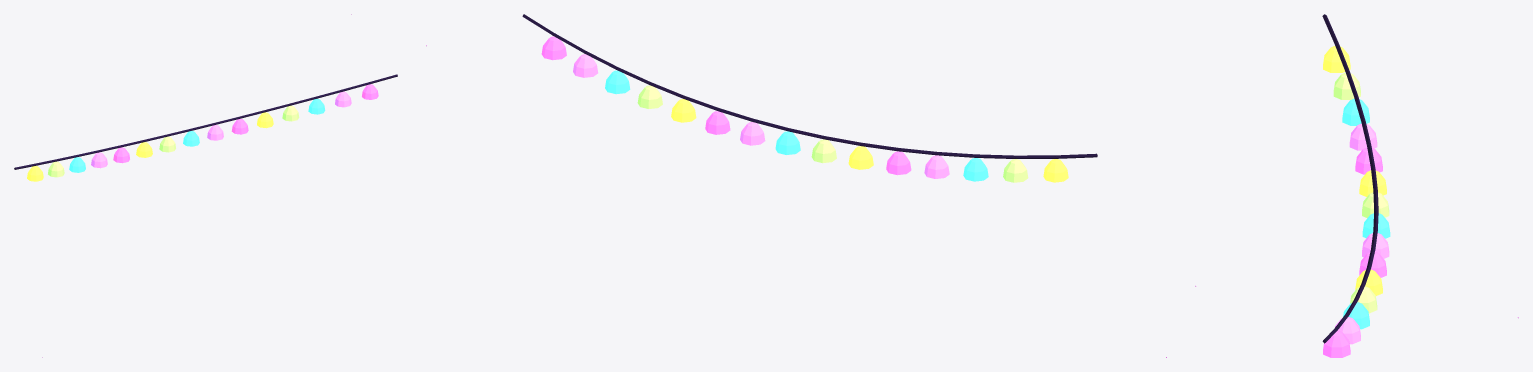
File: shelf_lights.fbx
3 views of the same model, side by side, from view 1: azimuth 30°, elevation 25°; view 2: azimuth 150°, elevation 25°; view 3: azimuth 270°, elevation 25° (orthographic). The views are drawn at different scales.
Visible parts, largest first — view 1: Bulbs, Wire; view 2: Bulbs, Wire; view 3: Bulbs, Wire.
Boxes of the visible parts, left/top/right/bottom form: Bulbs: left=27, top=84, right=378, bottom=181; Wire: left=14, top=74, right=397, bottom=169; Bulbs: left=541, top=36, right=1068, bottom=182; Wire: left=522, top=14, right=1097, bottom=158; Bulbs: left=1323, top=46, right=1390, bottom=357; Wire: left=1322, top=14, right=1378, bottom=343.
Bounding box in the file's own units: 24.99 × 10.6 × 9.99.
